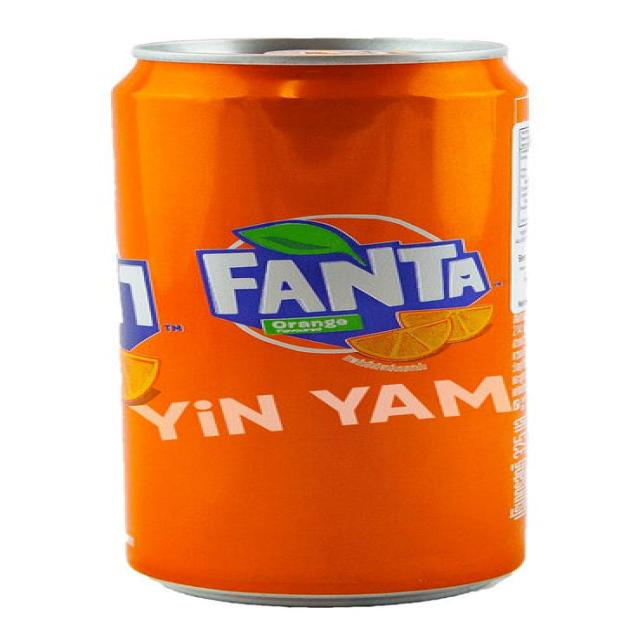fanta: (100, 32, 540, 610)
